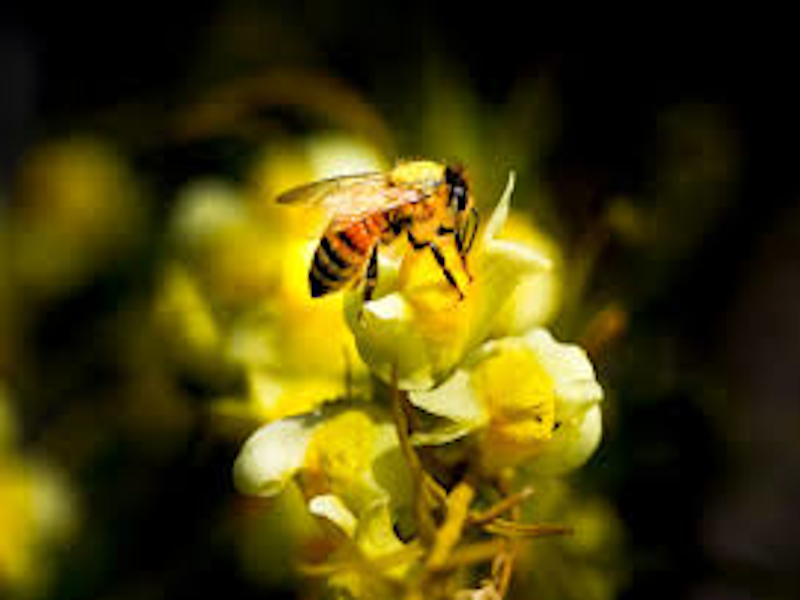abeja: (261, 141, 517, 309)
